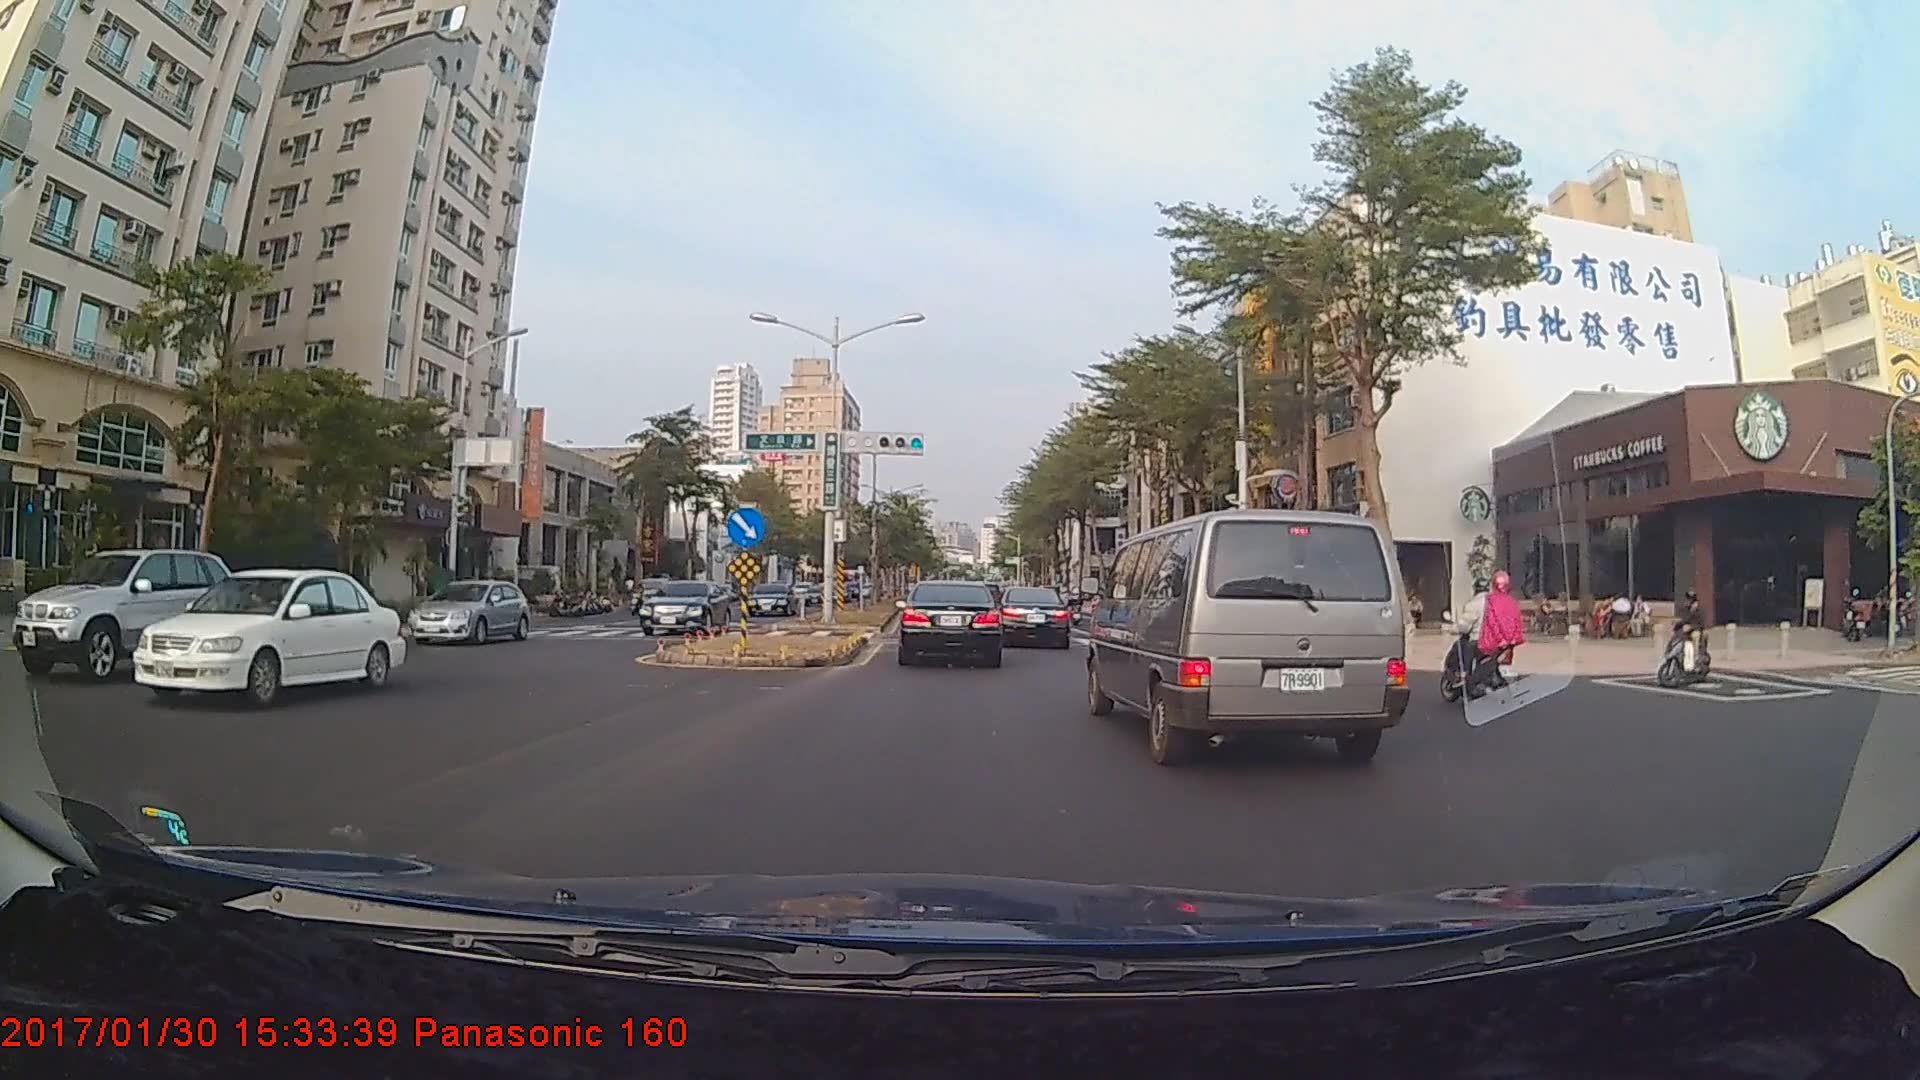rider: (1445, 564, 1539, 710), (1650, 587, 1724, 690)
vehicle: (1092, 503, 1404, 766), (130, 570, 403, 709), (10, 547, 239, 685), (897, 580, 1003, 666), (406, 578, 530, 644), (634, 578, 730, 638), (999, 585, 1071, 647), (744, 580, 800, 618)
